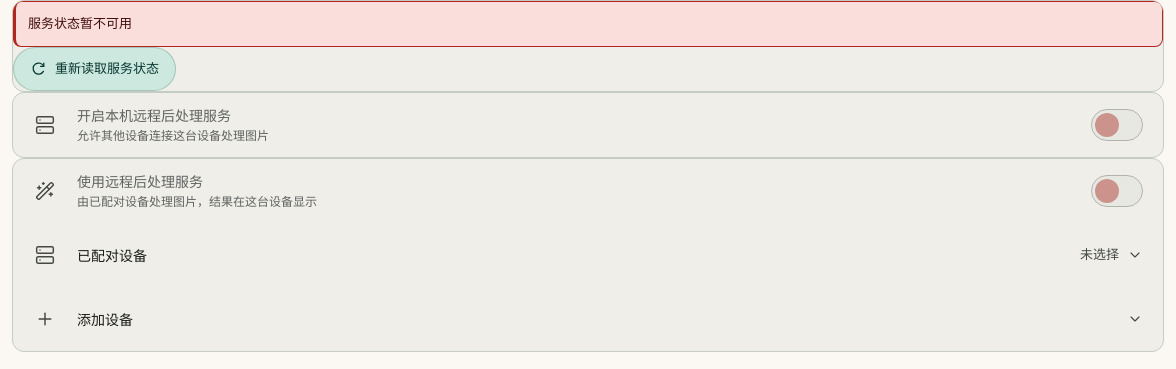
Test case: compute center paired clients › offers a retry when the initial local service status cannot be read
expect the message reads "服务状态暂不可用": met, box [28,15,132,31]
expect the switch named "开启本机远程后处理服务" is disabled: met, box [1091,108,1143,140]
Click the button "重新读取服务状态": (94, 68) [13,46,176,90]
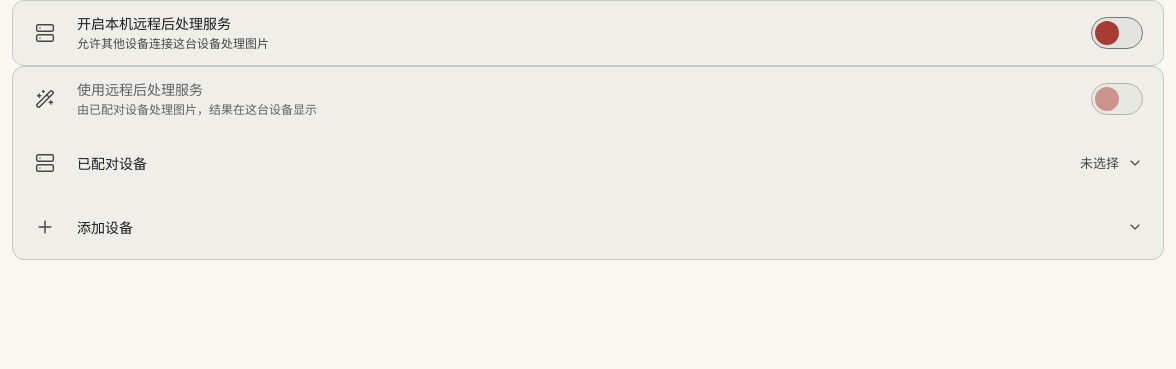
expect the switch named "开启本机远程后处理服务" is enabled: met, box [1091,17,1143,49]
expect the message "服务状态暂不可用" is gone: met
